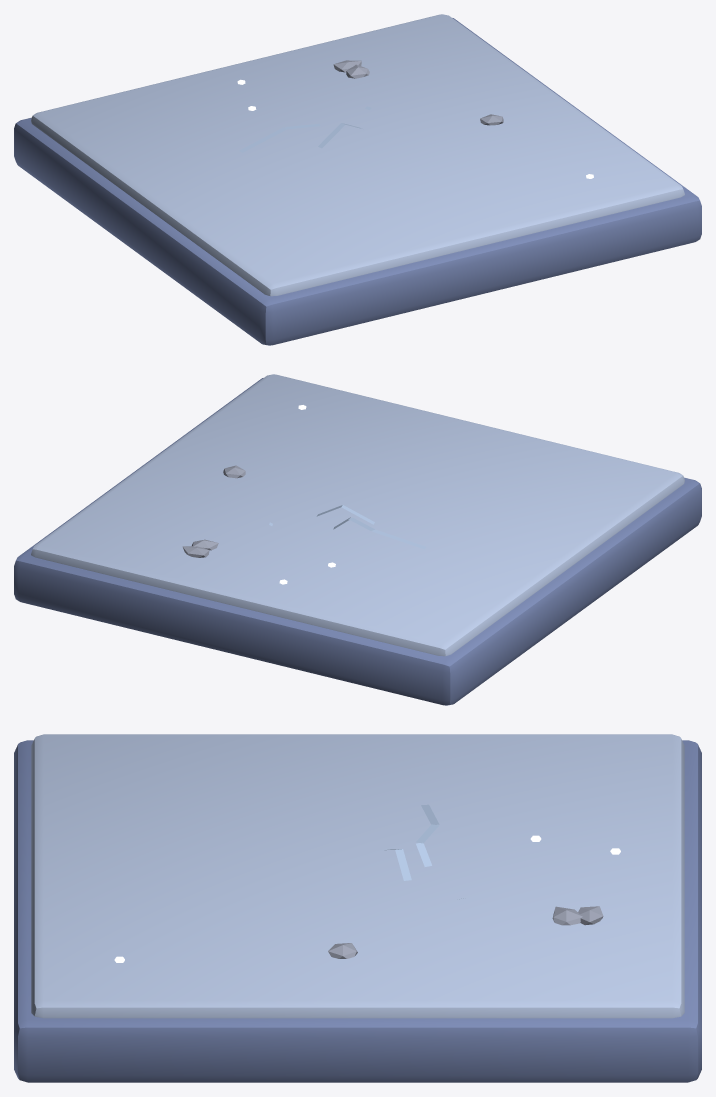
File: floor_tile_c.glb
The picture shows the model from 3 angles, top to bottom: view 1: azimuth 30°, elevation 25°; view 2: azimuth 150°, elevation 25°; view 3: azimuth 270°, elevation 25°; orthographic projection. The views are drawn at different scales.
Visible parts, largest first — view 1: floor_tile_c; view 2: floor_tile_c; view 3: floor_tile_c.
Part boxes in pixels (bbox=[...]): floor_tile_c: bbox=[14, 14, 701, 345]; floor_tile_c: bbox=[14, 374, 701, 705]; floor_tile_c: bbox=[14, 734, 701, 1082].
Size of the model in its own units: 1 by 0.1499 by 1.
